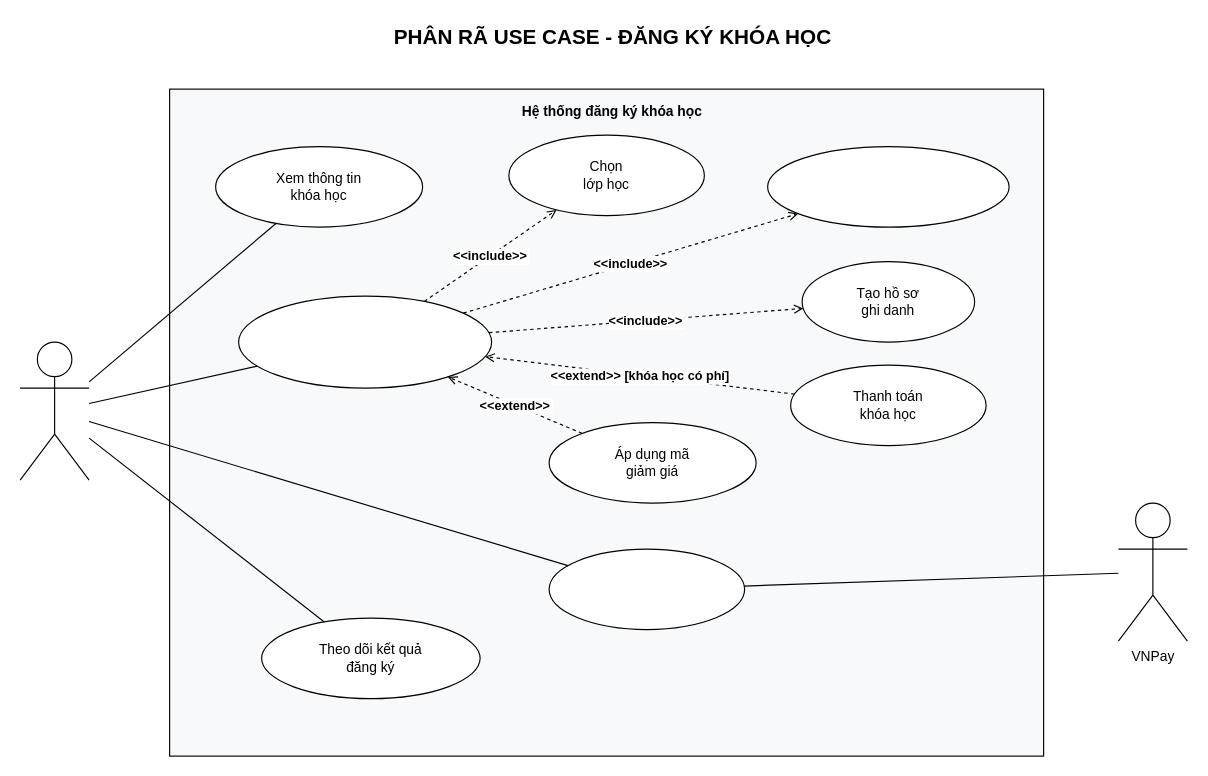
Some shapes in this 1208 by 776 pixel diagram are drawn without their labels. The box of each missing label's shape, as (x1, y1, x2, y2) in pixels:
Học viên: (19, 341, 89, 480)
Kiểm tra điều kiện và trạng thái lớp: (766, 145, 1009, 227)
Nạp ví điện tử: (548, 548, 745, 630)
Đăng ký khóa học: (237, 295, 492, 388)
